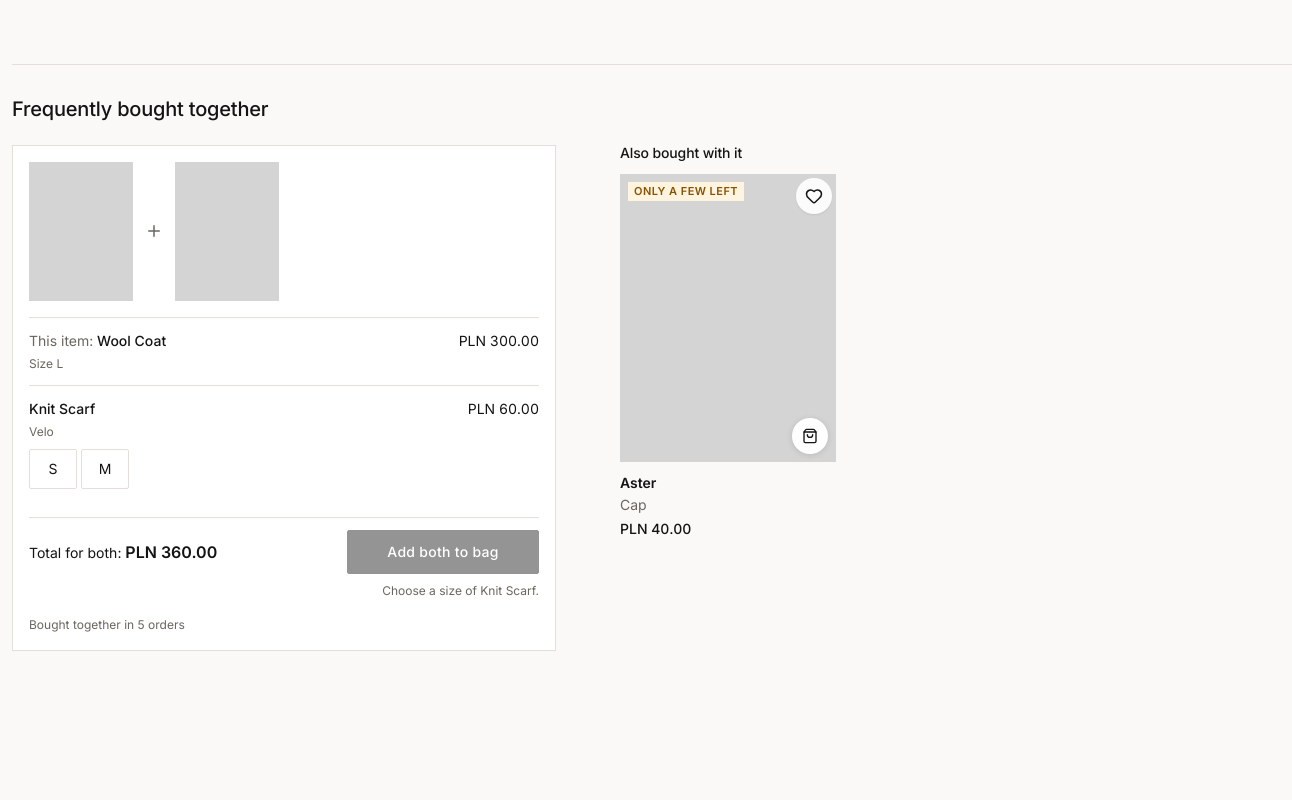
BoughtTogether › adds the product and the top pick once a size of the pick is chosen
Expected: the heading "Frequently bought together" is shown, [12,97,268,121]
Expected: the text "Bought together in 5 orders" is shown, [29,617,185,632]
Step 1. Click the radio button labelled "M" → (105, 469), box [81,449,129,489]
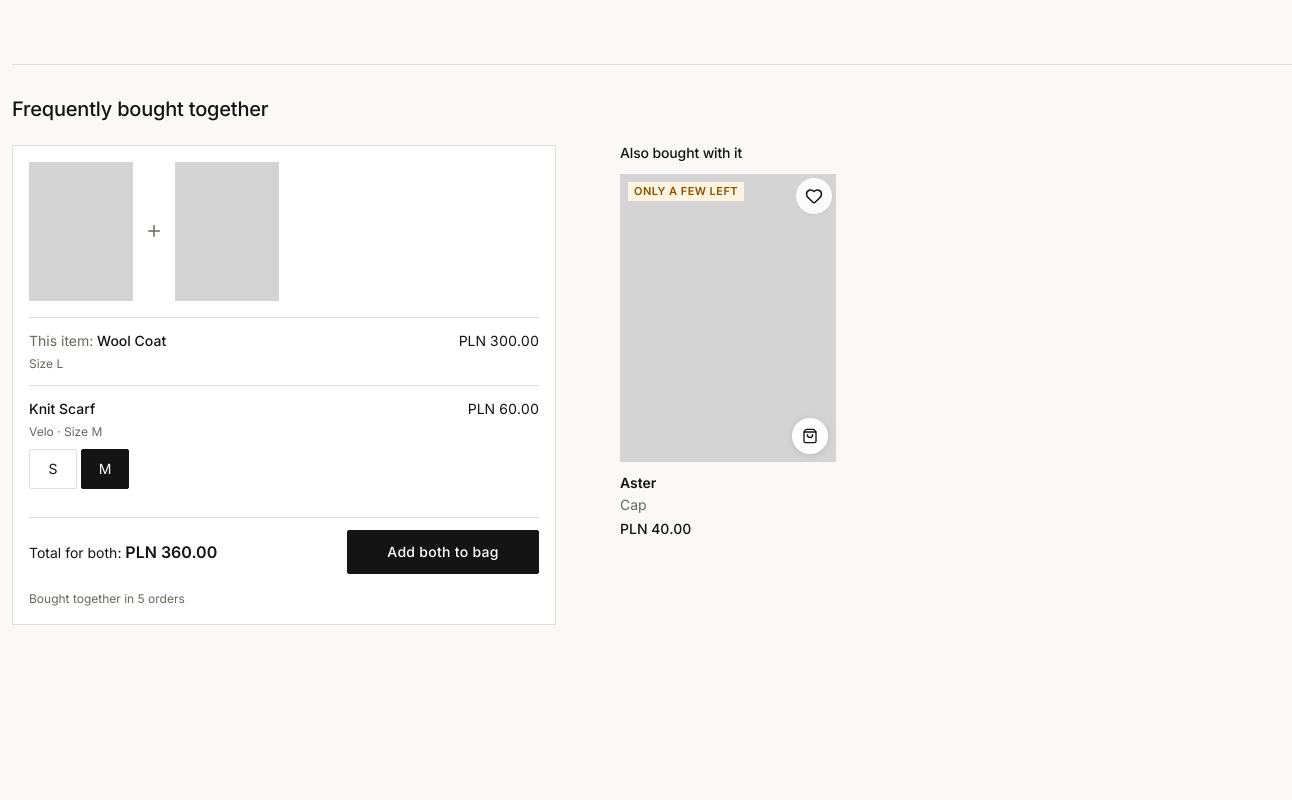
Expected: the button "Add both to bag" is enabled
Step 2. Click the button "Add both to bag" → (443, 552), box [347,530,539,574]
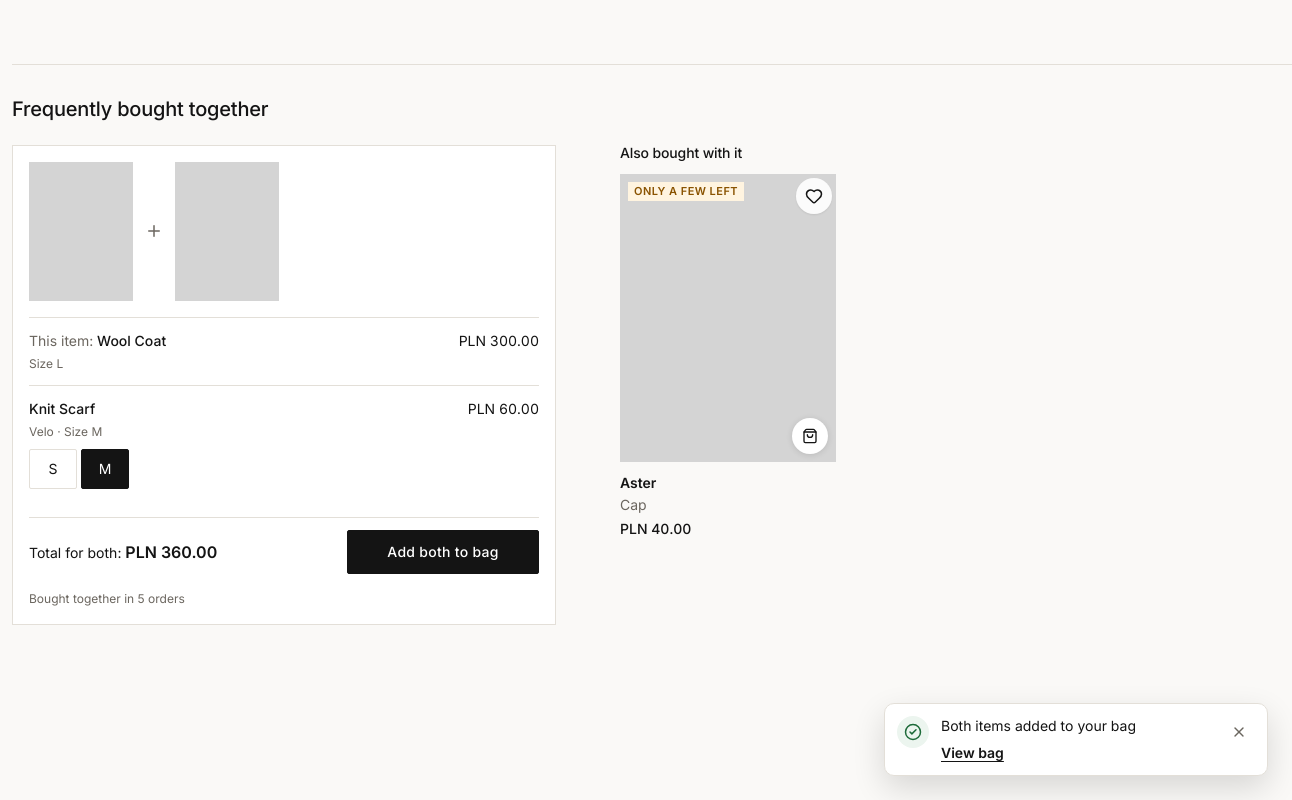
Expected: the heading "Also bought with it" is shown, [620,144,742,161]
Expected: the text "Both items added to your bag" is shown, [941,717,1136,734]
